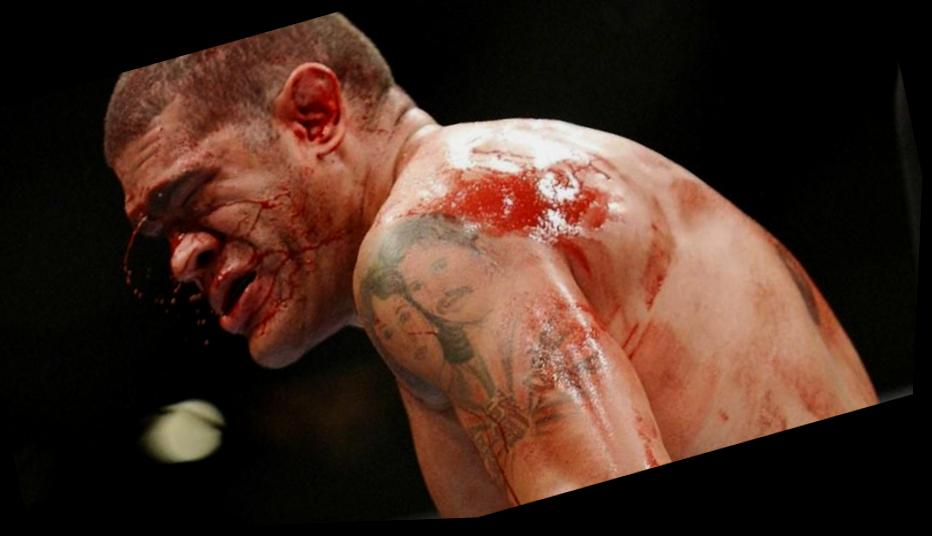Fire: (113, 103, 714, 511)
